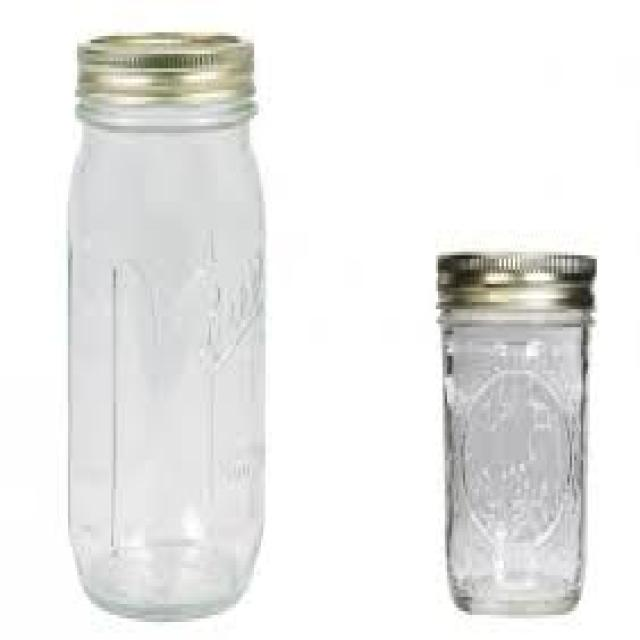glass: (64, 94, 263, 619), (438, 306, 586, 615)
metal: (75, 32, 252, 101), (434, 248, 595, 320)
